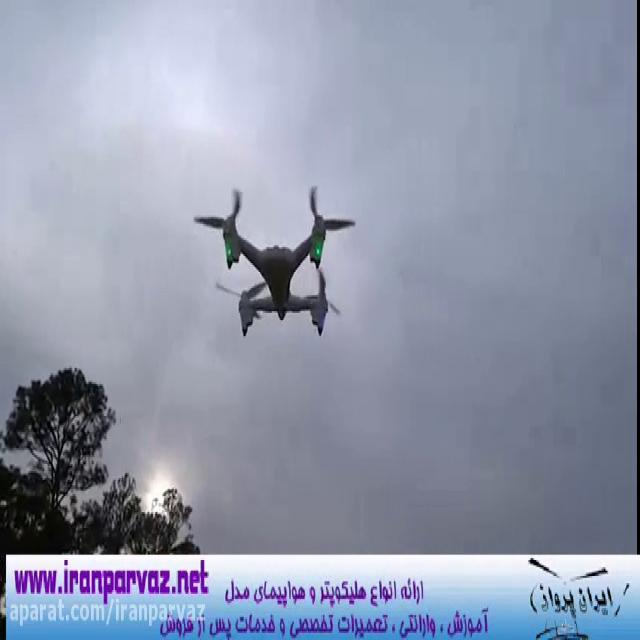drone: (191, 180, 358, 340)
